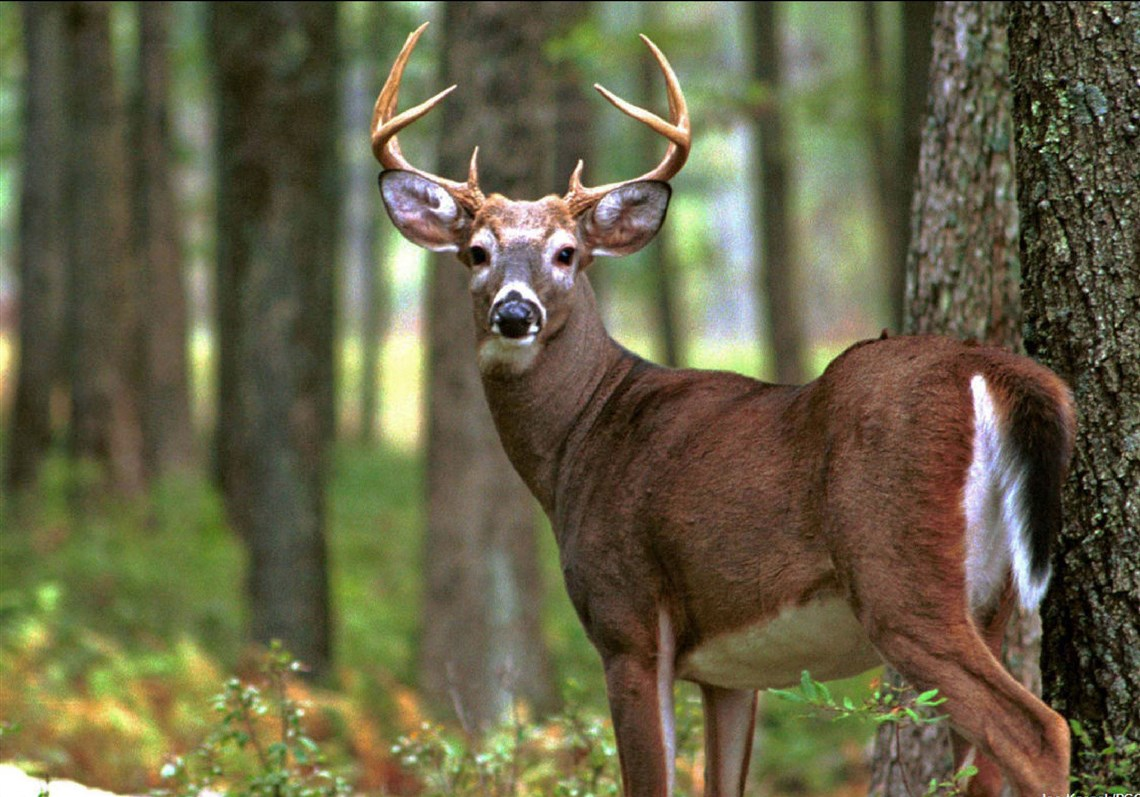Deer: (364, 16, 1079, 797)
